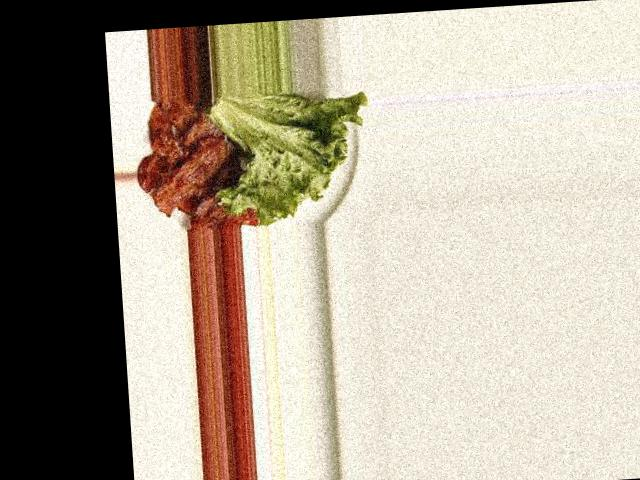lettuce: (190, 64, 347, 219)
